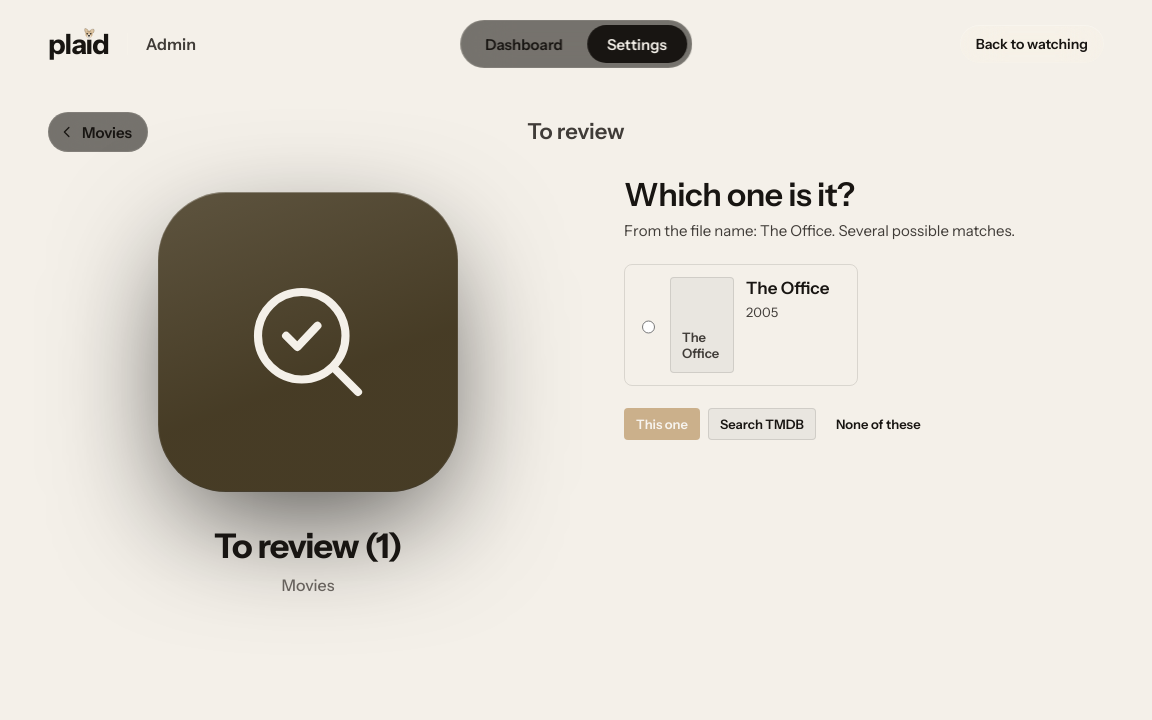
Test: libraries › shows the match is on its way and sends it once
Click the radio button labelled "The Office The Office 2005".
click(648, 327)  # box [642, 281, 655, 373]
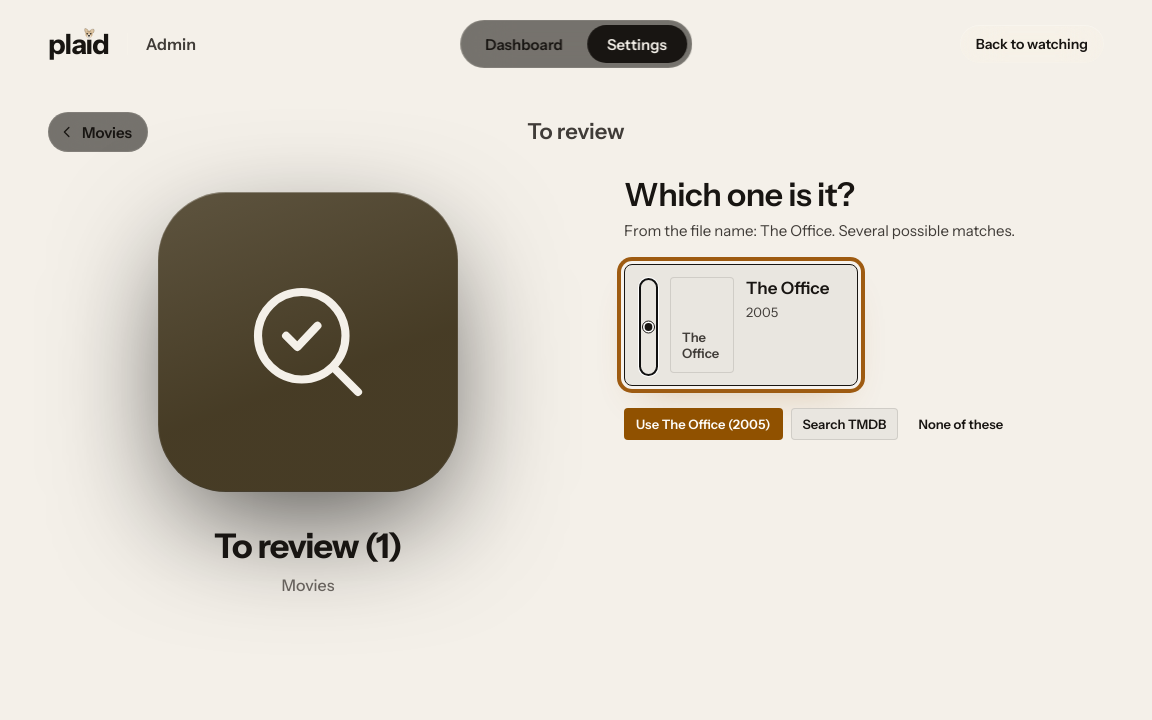
Click the button "Use The Office (2005)".
click(703, 424)  # box [624, 408, 782, 440]
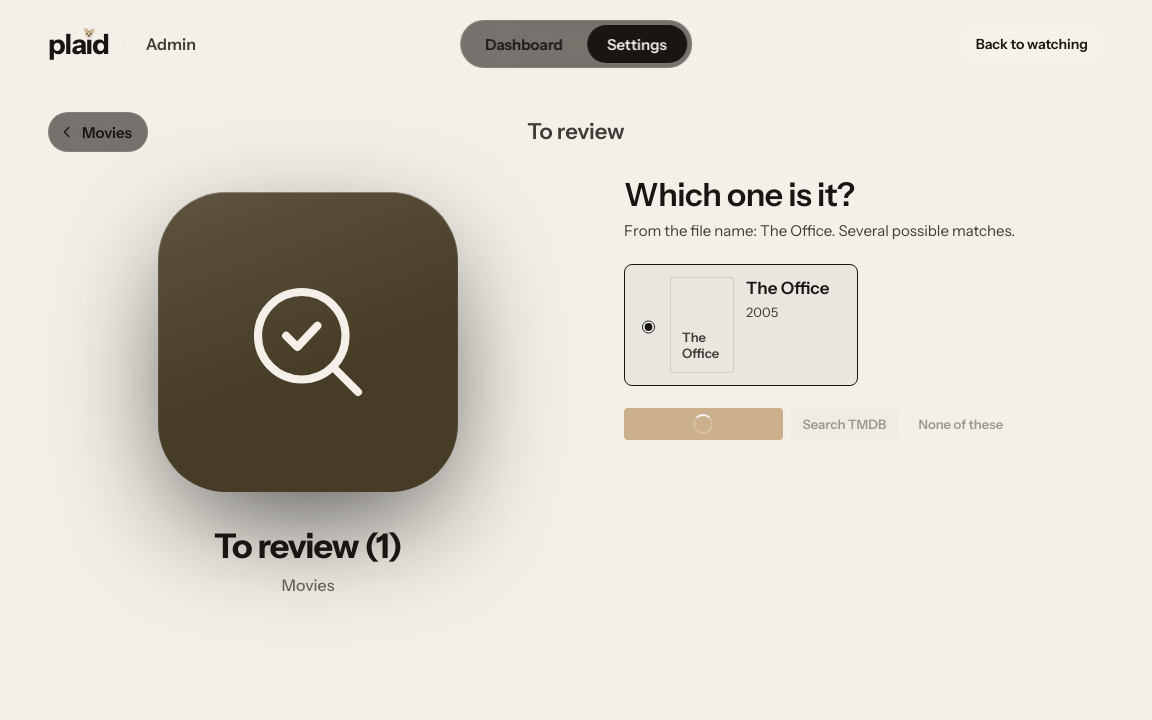
Expected: the button "Use The Office (2005)" is disabled
Click the button "Use The Office (2005)".
click(703, 424)  # box [624, 408, 782, 440]
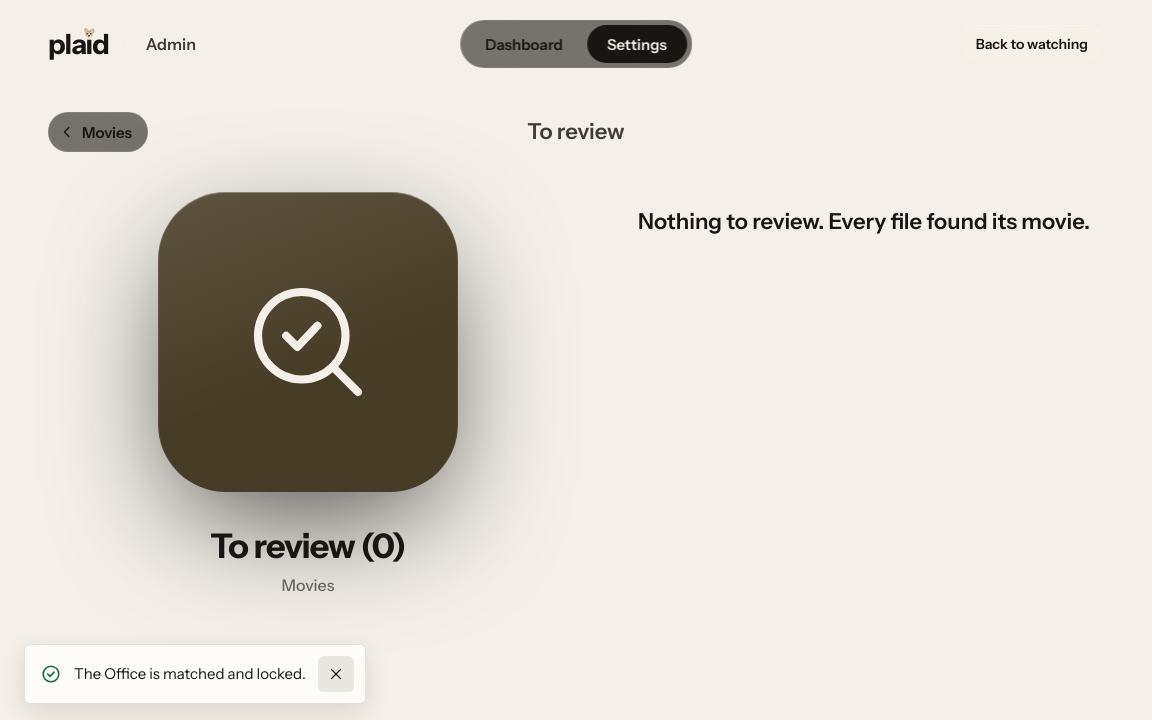
Expected: the text "The Office is matched and locked." is shown, [74, 664, 306, 684]
